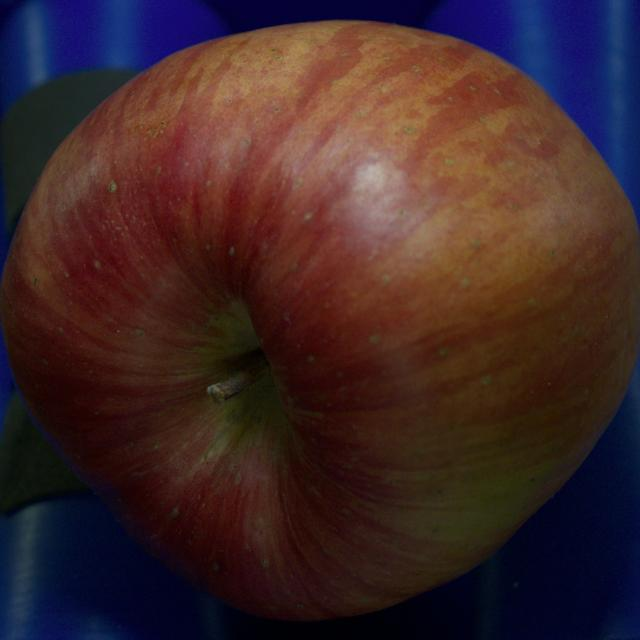apple: (0, 21, 639, 620)
